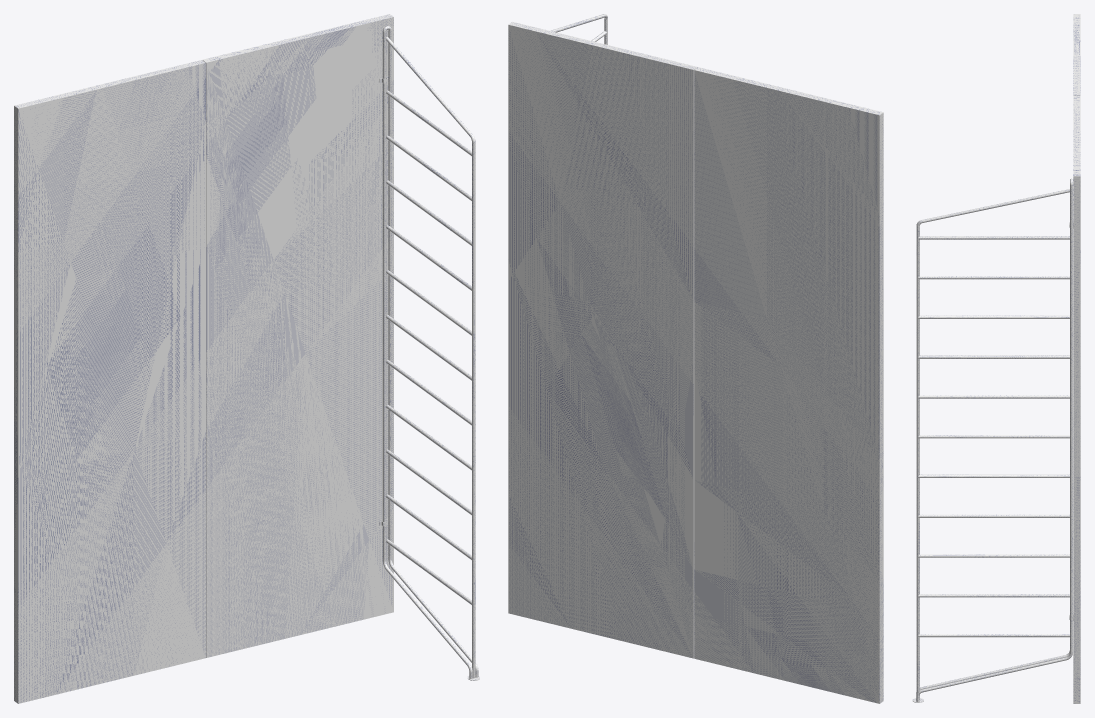
Rendered from rightbase.fbx.
3 renders of one model, left to right at view 1: azimuth 30°, elevation 25°; view 2: azimuth 150°, elevation 25°; view 3: azimuth 270°, elevation 25°, orthographic. The views are drawn at different scales.
Parts seen in each view (by area): view 1: Group1, Group2, Group18; view 2: Group1; view 3: Group1, Group18, Group2, Group17, Group4, Group5, Group12, Group8, Group10, Group13, Group14, Group6 (+4 smaller).
Part boxes in pixels (bbox=[...]): Group1: bbox=[14, 14, 393, 703]; Group2: bbox=[382, 26, 391, 558]; Group18: bbox=[386, 37, 475, 678]; Group1: bbox=[508, 21, 883, 703]; Group1: bbox=[1073, 14, 1080, 703]; Group18: bbox=[916, 189, 1069, 699]; Group2: bbox=[1070, 178, 1072, 651]; Group17: bbox=[916, 651, 1072, 701]; Group4: bbox=[918, 236, 1069, 239]; Group5: bbox=[918, 435, 1069, 438]; Group12: bbox=[918, 594, 1069, 597]; Group8: bbox=[918, 276, 1069, 279]; Group10: bbox=[918, 395, 1069, 398]; Group13: bbox=[918, 634, 1069, 637]; Group14: bbox=[918, 554, 1069, 557]; Group6: bbox=[918, 474, 1069, 477].
Bounding box in the file's own units: 788 × 1194 × 345.
